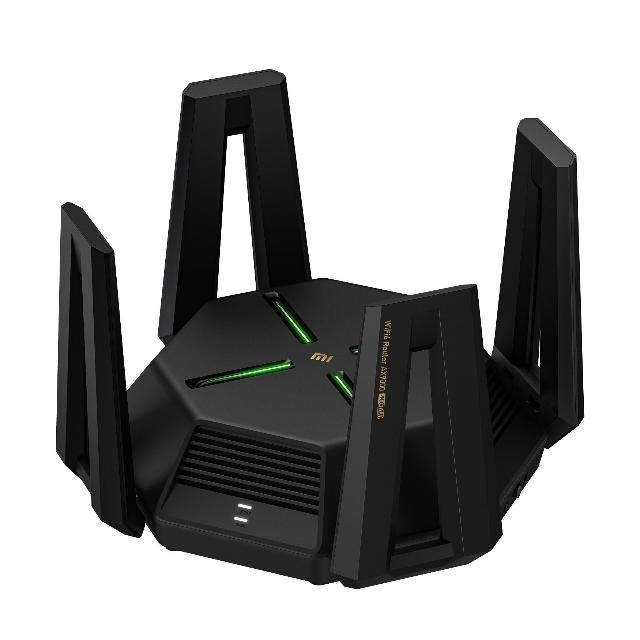Router: (56, 70, 586, 592)
